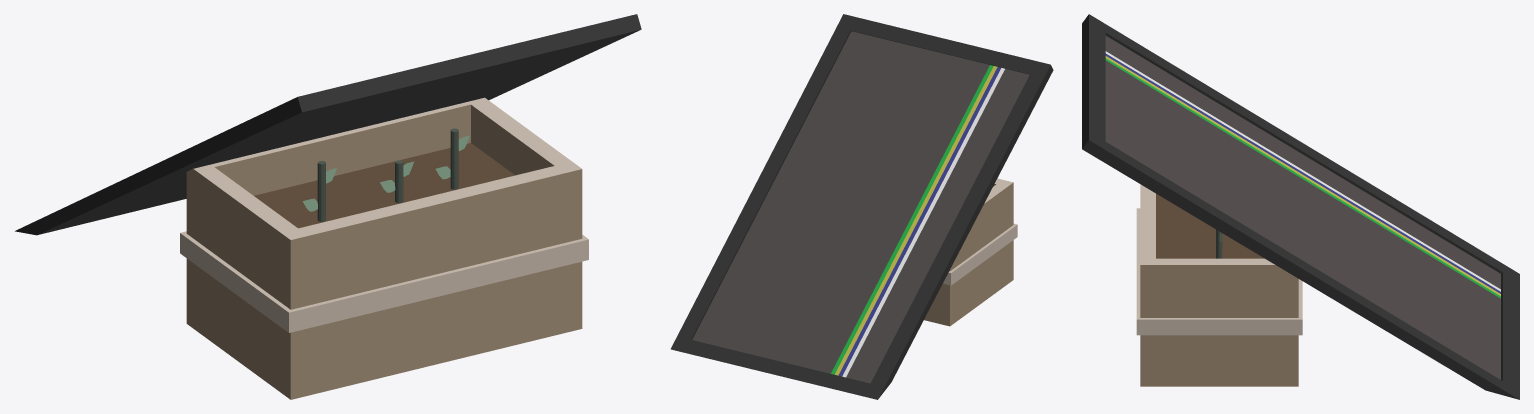
File: Rampa 5.fbx
The picture shows the model from 3 angles, left to right: view 1: azimuth 30°, elevation 25°; view 2: azimuth 150°, elevation 25°; view 3: azimuth 270°, elevation 25°; orthographic projection. The views are drawn at different scales.
Visible parts, largest first — view 1: Maseta_sola_2, Pantalla_Rota2, Tallo; view 2: Pantalla_Rota2, Maseta_sola_2; view 3: Pantalla_Rota2, Maseta_sola_2.
Part boxes in pixels (x1=…): Maseta_sola_2: x1=180, y1=97, x2=588, y2=399; Pantalla_Rota2: x1=15, y1=14, x2=641, y2=235; Tallo: x1=450, y1=128, x2=458, y2=189; Pantalla_Rota2: x1=671, y1=14, x2=1053, y2=399; Maseta_sola_2: x1=924, y1=178, x2=1017, y2=326; Pantalla_Rota2: x1=1082, y1=14, x2=1519, y2=399; Maseta_sola_2: x1=1136, y1=184, x2=1302, y2=386.
Bounding box in the file's own units: 3.19 × 3.06 × 4.67.
